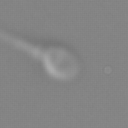normal: (1, 26, 44, 60)
